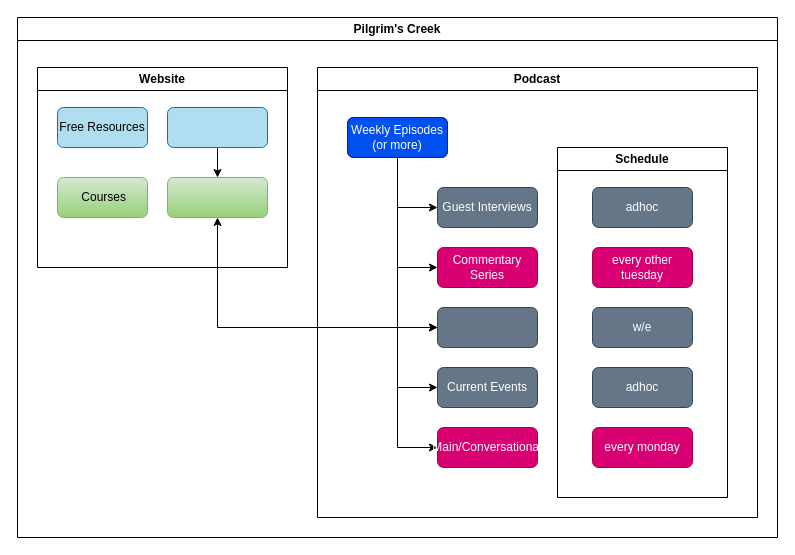
This 795x555 diagram has some shape labels left out. Here are the shapes that lost their labels. From the top down, the centre of each, then its label:
the point at 217,127: Book Club Intro
the point at 217,197: Quarterly "Book Club"
the point at 487,327: Book Club Conversations
